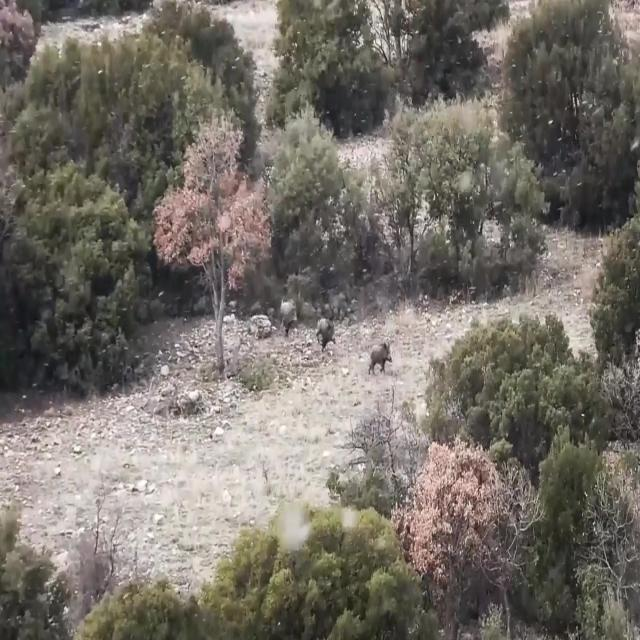pig: (363, 333, 398, 377), (270, 295, 302, 336)
